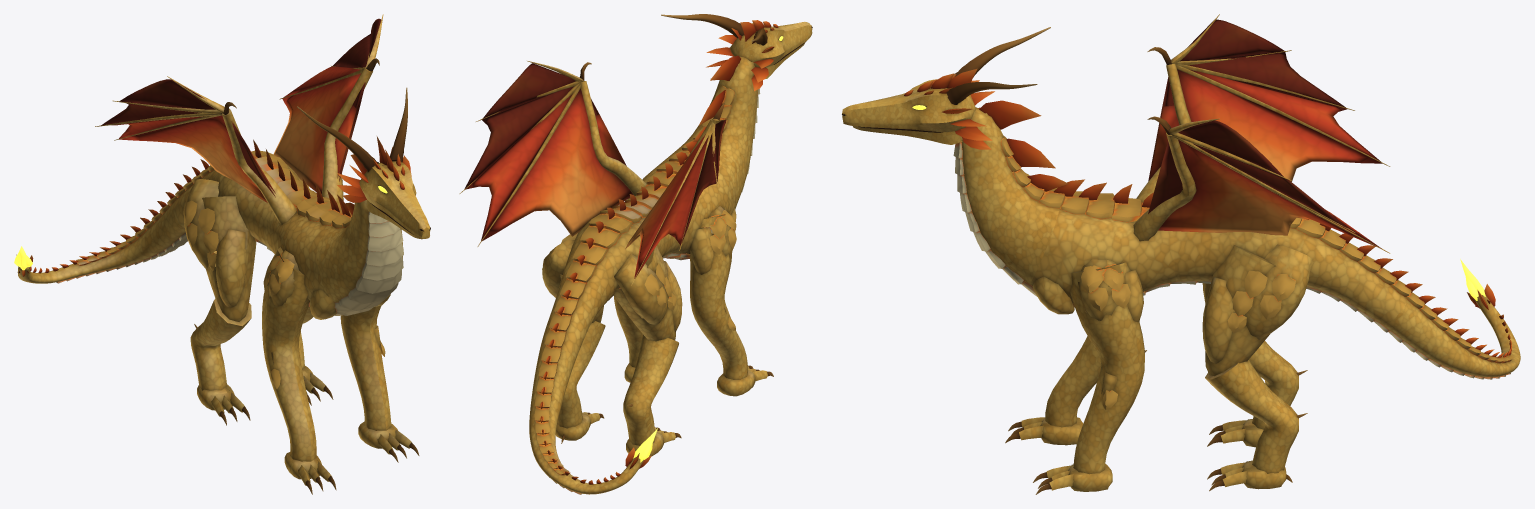
The model's file is sundragon.fbx.
3 views of the same model, side by side, from view 1: azimuth 30°, elevation 25°; view 2: azimuth 150°, elevation 25°; view 3: azimuth 270°, elevation 25° (orthographic). The views are drawn at different scales.
Parts seen in each view (by area): view 1: SunDragon_Body; view 2: SunDragon_Body; view 3: SunDragon_Body.
Part boxes in pixels (bbox=[...]): SunDragon_Body: bbox=[16, 14, 430, 494]; SunDragon_Body: bbox=[459, 14, 812, 494]; SunDragon_Body: bbox=[842, 14, 1520, 494].
Size of the model in its own units: 3.13 by 4.1 by 6.2.
Materials: 2 (1 with a texture image).
